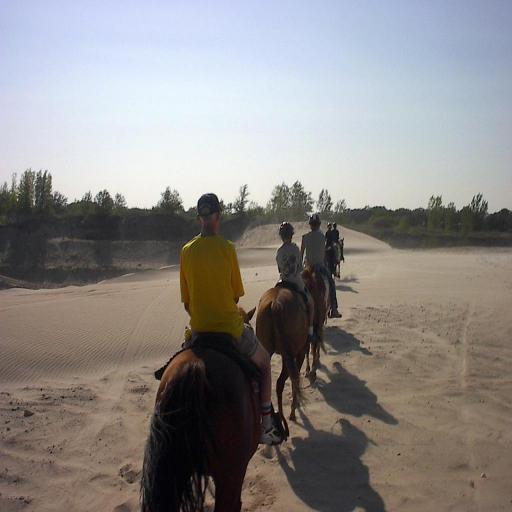horse: (140, 305, 264, 512), (252, 280, 320, 422), (298, 264, 333, 368), (333, 236, 346, 278), (324, 243, 336, 276)
